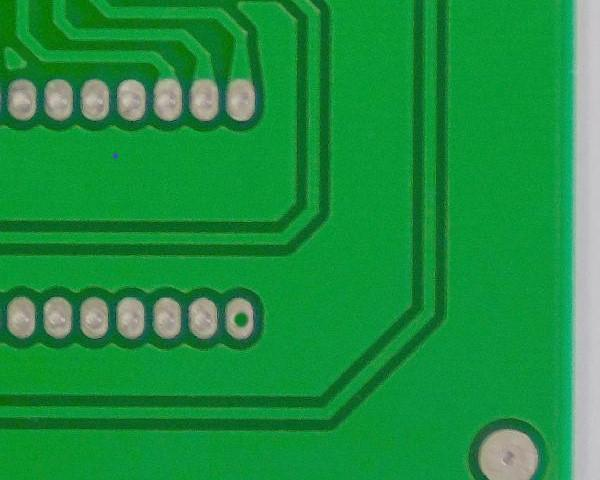missing hole: (222, 292, 261, 341)
